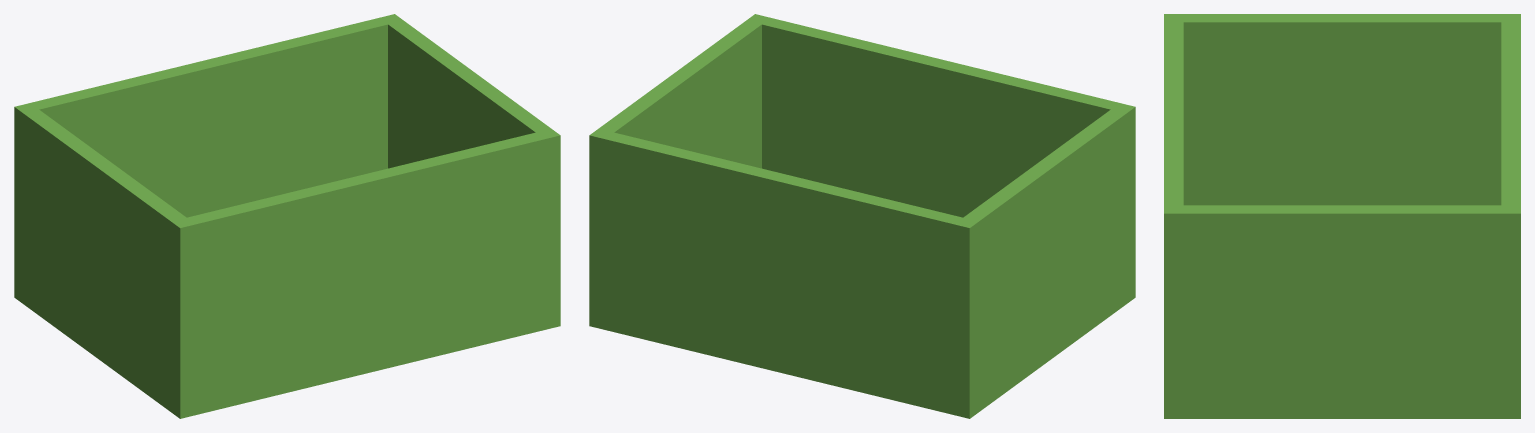
The model's file is walls.obj.
The picture shows the model from 3 angles, left to right: view 1: azimuth 30°, elevation 25°; view 2: azimuth 150°, elevation 25°; view 3: azimuth 270°, elevation 25°; orthographic projection. The views are drawn at different scales.
Visible parts, largest first — view 1: Cube; view 2: Cube; view 3: Cube.
Boxes of the visible parts, x1,y1,x2,y2 form: Cube: (14,14,560,418); Cube: (589,14,1135,418); Cube: (1164,14,1520,418).
Bounding box in the file's own units: 14.01 × 6.71 × 10.57.
